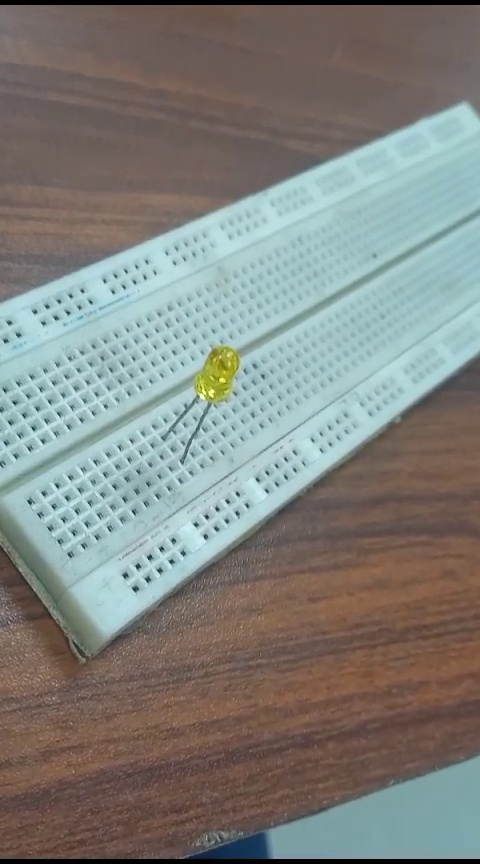LED: (166, 333, 240, 472)
